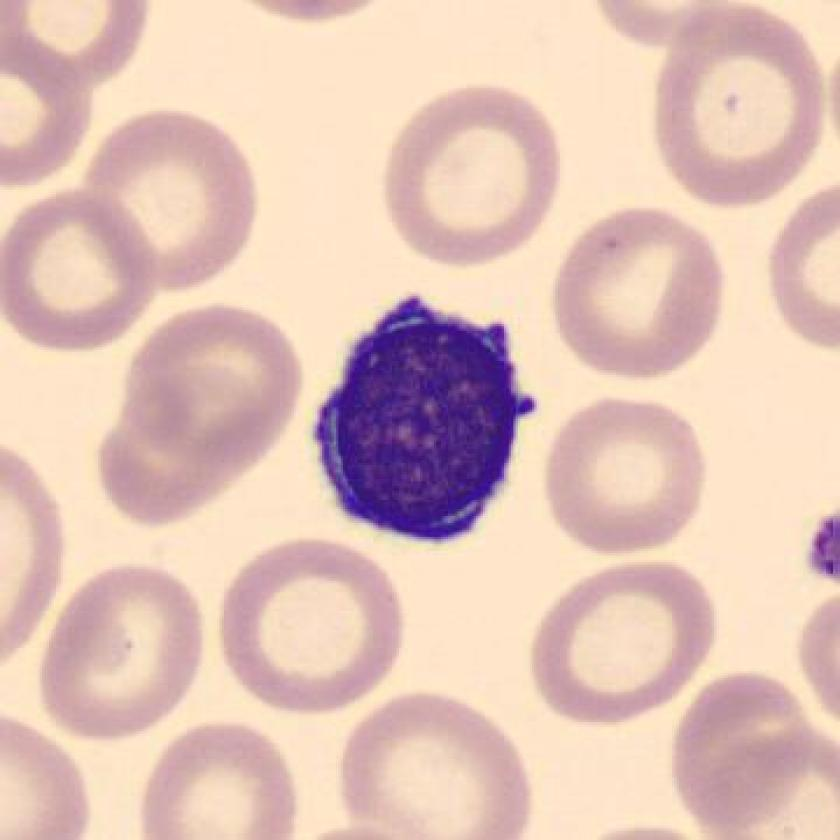lymphocyte: (297, 272, 552, 556)
